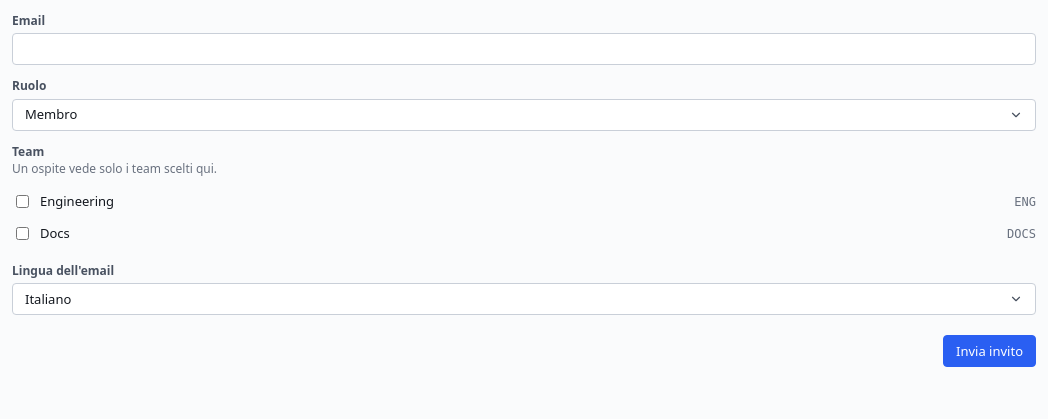
Test: InvitePanel › shows the translated text of a refusal, not the server text
Type "member@example.test" into the field labelled "Email" at (524, 49), box [12,33,1036,65]
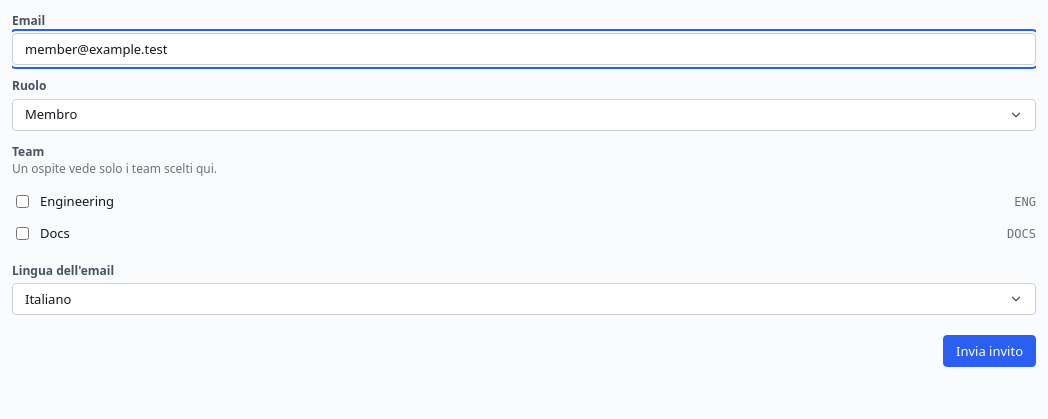
Click the button "Invia invito" at (990, 351), box [943,335,1036,367]
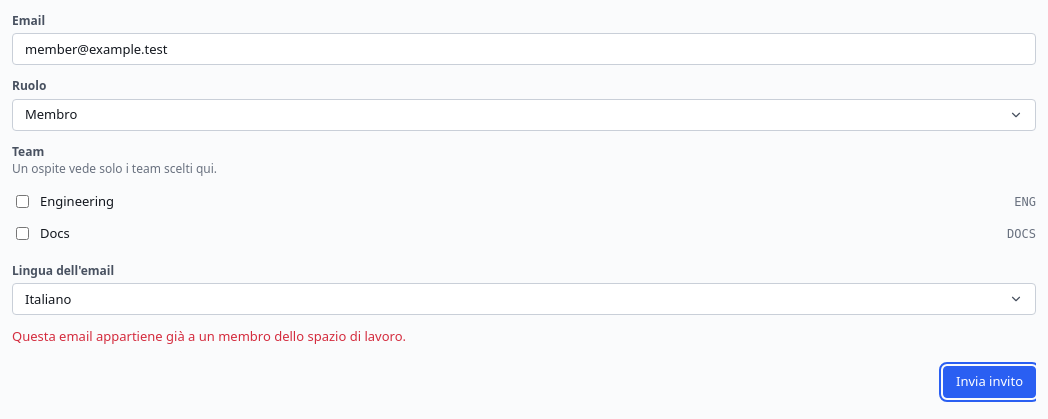
Expected: the message reads "Questa email appartiene già a un membro dello spazio di lavoro.", [12,327,406,345]
